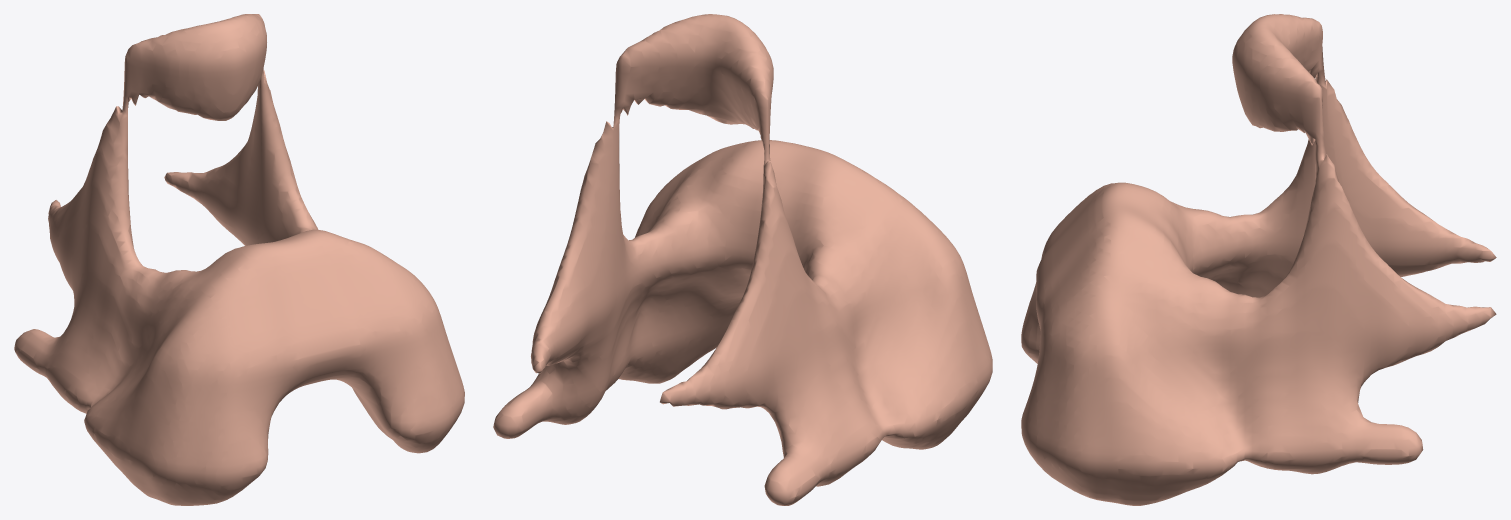
The model's file is external-urethral-sphincter.glb.
The picture shows the model from 3 angles, left to right: view 1: azimuth 30°, elevation 25°; view 2: azimuth 150°, elevation 25°; view 3: azimuth 270°, elevation 25°; orthographic projection. The views are drawn at different scales.
Visible parts, largest first — view 1: Study; view 2: Study; view 3: Study.
Part boxes in pixels (left/top/right/bottom): Study: left=14, top=14, right=464, bottom=505; Study: left=493, top=14, right=992, bottom=505; Study: left=1021, top=14, right=1496, bottom=505.
Bounding box in the file's own units: 0.0105 × 0.0124 × 0.0128.
